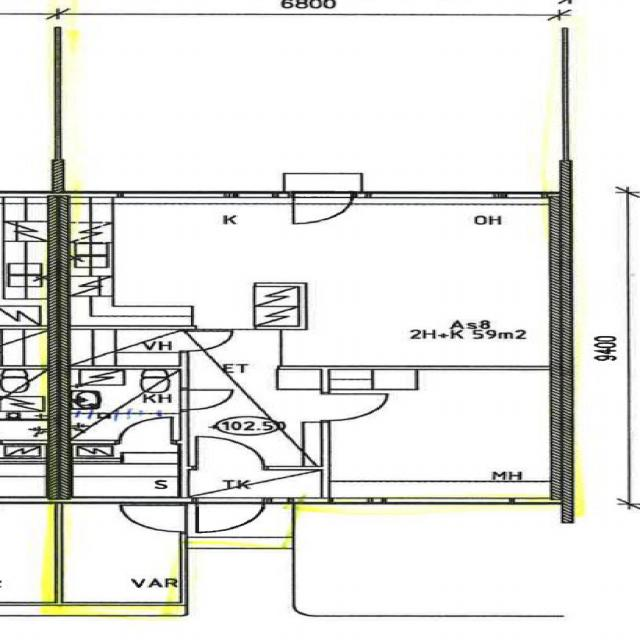door: (196, 498, 264, 534), (293, 191, 352, 231), (196, 436, 263, 470), (122, 505, 189, 532), (322, 394, 386, 420), (120, 417, 172, 444), (179, 390, 232, 410), (179, 331, 232, 350)
